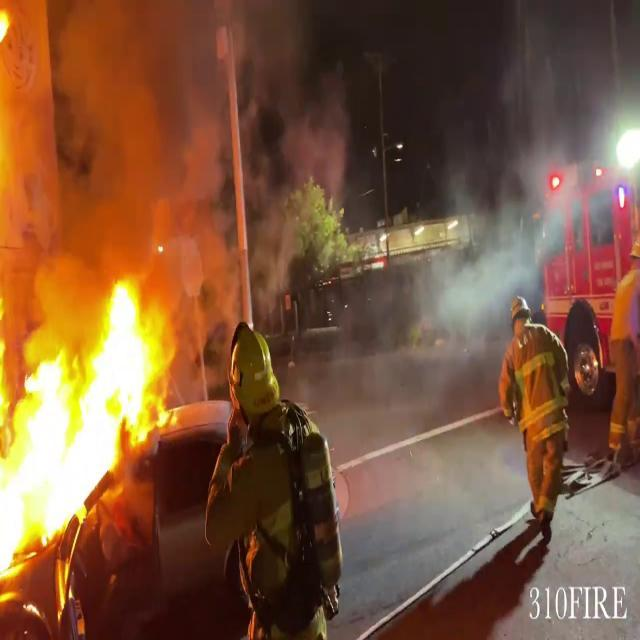Fire: (0, 268, 174, 592)
Smoke: (4, 0, 365, 300)
